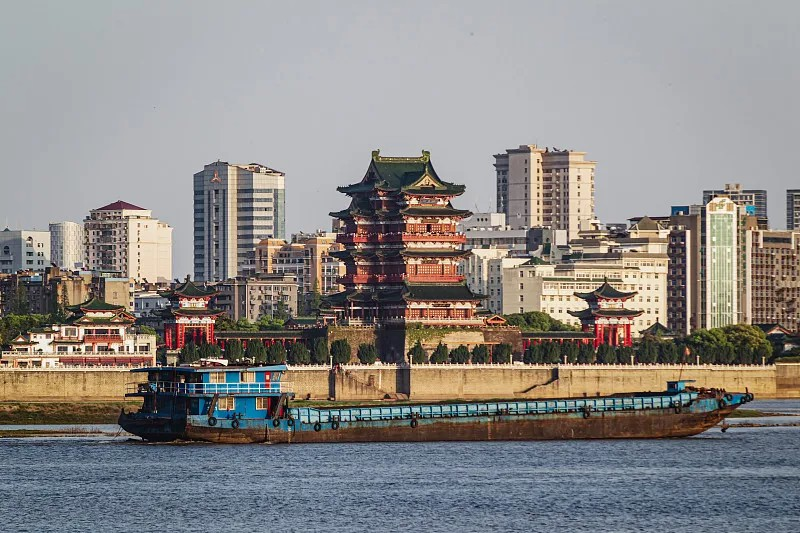Teng: (313, 149, 489, 323)
